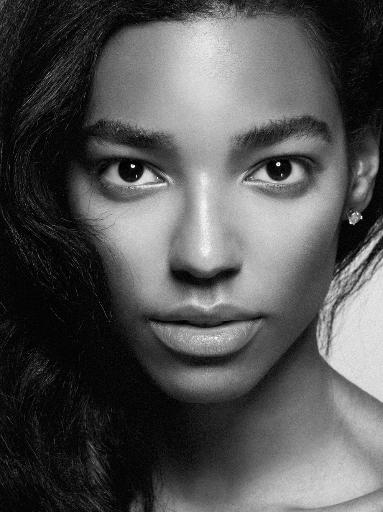left_eye: (242, 153, 318, 196)
left_lip_corner: (251, 308, 272, 330)
right_eye: (93, 152, 170, 197)
right_lip_corner: (142, 309, 165, 335)
